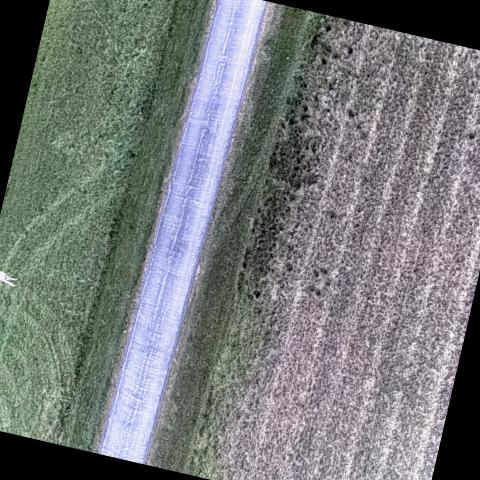person: (0, 268, 19, 288)
